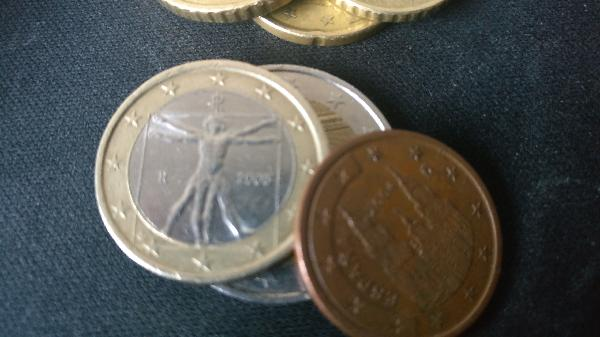Five Cent: (297, 128, 509, 333)
One Euro: (91, 58, 331, 293)
Two Euro: (215, 54, 414, 313)
